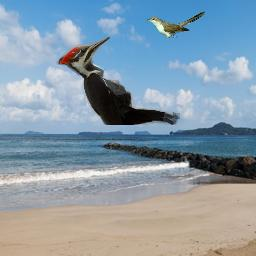Cuckoo: (146, 11, 205, 38)
Woodpecker: (52, 37, 180, 125)
